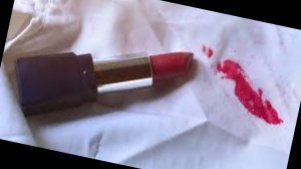lipstick: (207, 65, 288, 124), (203, 49, 249, 92), (198, 42, 223, 62)
